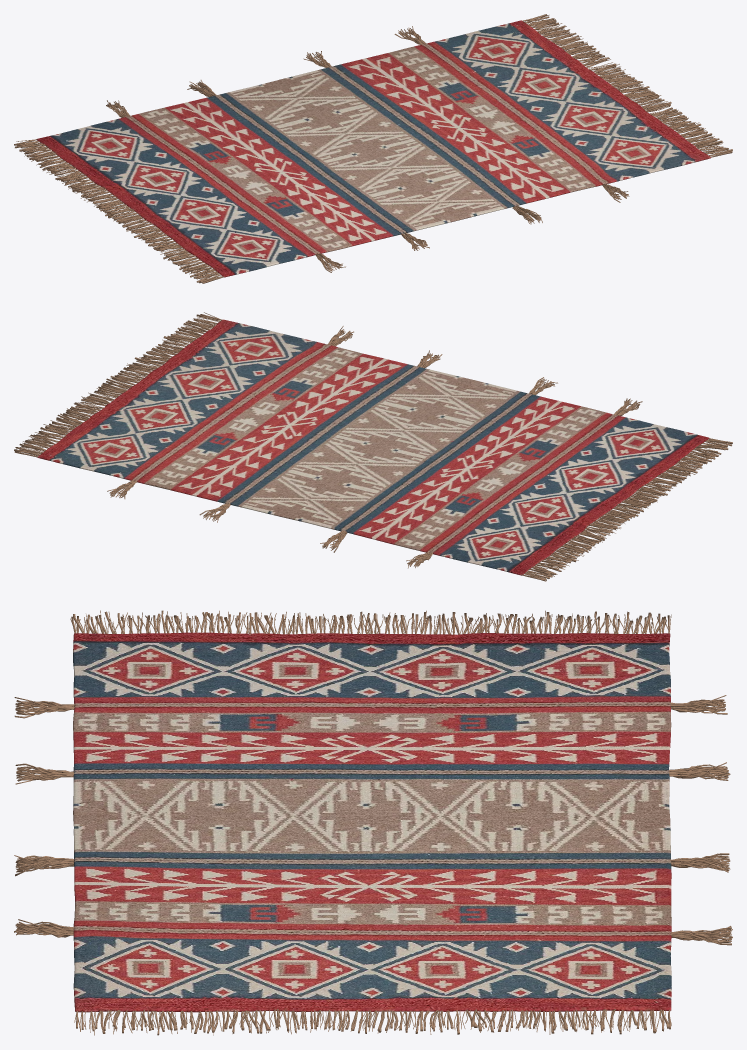
Rendered from B07HSHMQ62.glb.
3 views of the same model, one above another, from view 1: azimuth 30°, elevation 25°; view 2: azimuth 150°, elevation 25°; view 3: azimuth 270°, elevation 25° (orthographic). The views are drawn at different scales.
Parts seen in each view (by area): view 1: RootNode; view 2: RootNode; view 3: RootNode.
Boxes of the visible parts, x1=… form: RootNode: x1=14, y1=14, x2=732, y2=283; RootNode: x1=14, y1=312, x2=732, y2=581; RootNode: x1=14, y1=610, x2=732, y2=1035.
Size of the model in its own units: 2.03 by 0.04 by 1.47.
Materials: 1 (1 with a texture image).
